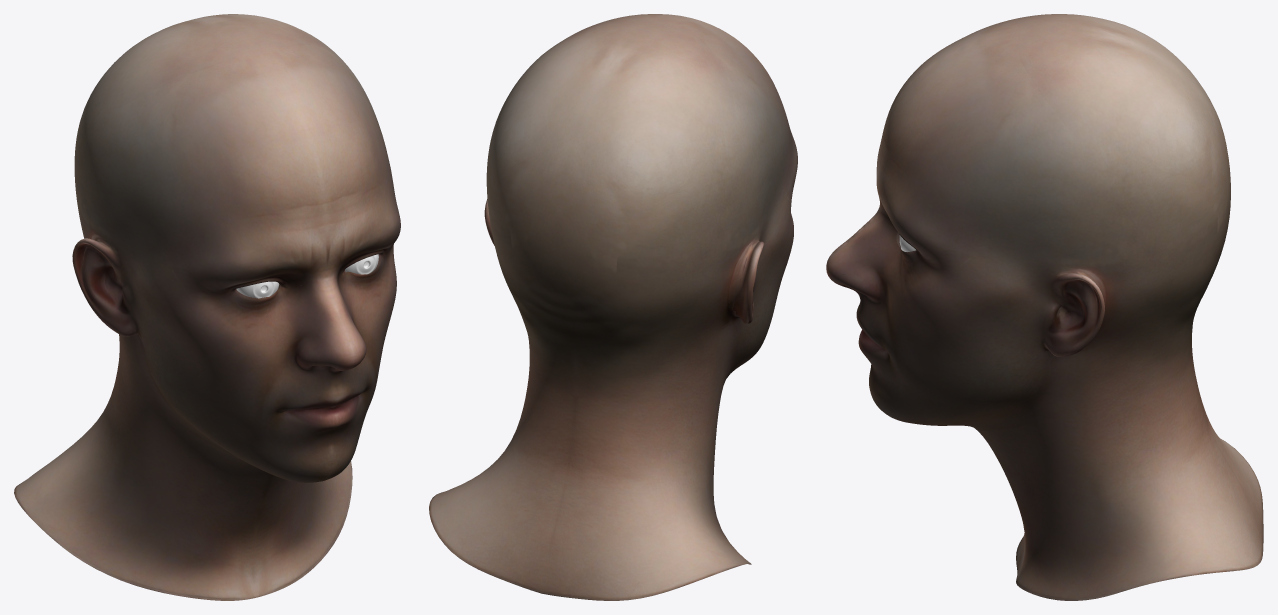
Rendered from head_eyes_v1.glb.
The picture shows the model from 3 angles, left to right: view 1: azimuth 30°, elevation 25°; view 2: azimuth 150°, elevation 25°; view 3: azimuth 270°, elevation 25°; orthographic projection. The views are drawn at different scales.
Parts seen in each view (by area): view 1: Head, Eye_L; view 2: Head; view 3: Head.
Part boxes in pixels (bbox=[...]): Head: bbox=[14, 14, 400, 600]; Eye_L: bbox=[236, 281, 279, 298]; Head: bbox=[429, 14, 797, 600]; Head: bbox=[826, 14, 1263, 600].
Bounding box in the file's own units: 2.09 × 3.5 × 2.55.
4 materials, 1 textured.
